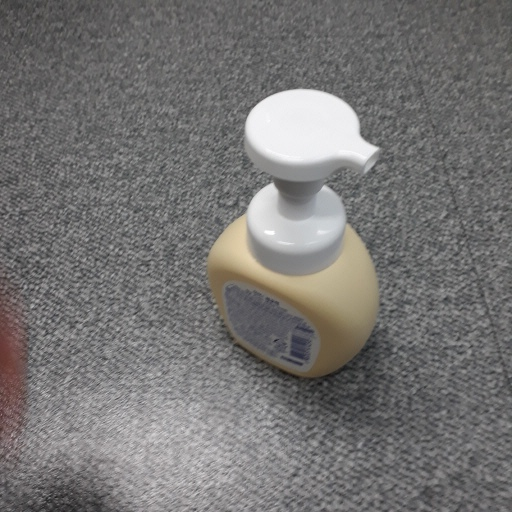Plastic_3: (194, 83, 401, 377)
